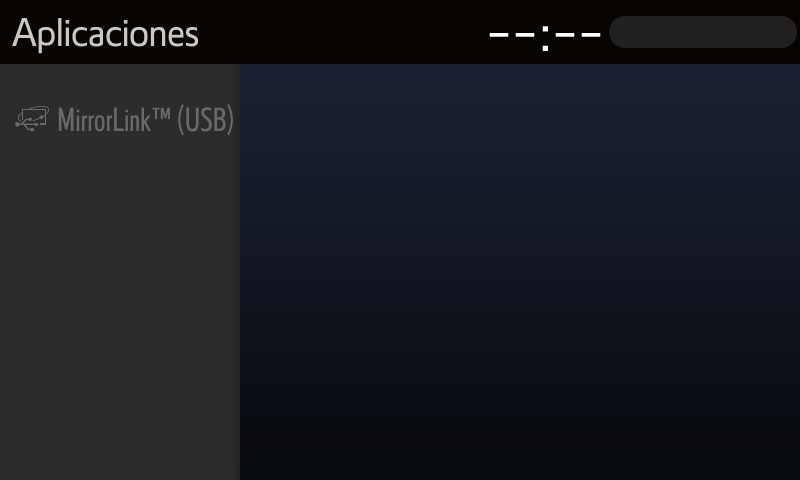untouchPart: (473, 12, 796, 57), (12, 100, 232, 150), (8, 9, 205, 54)
